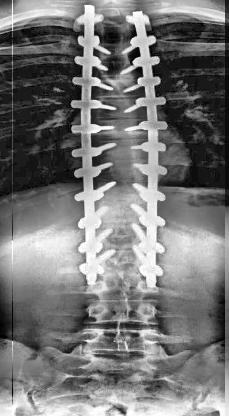Vertebrae: (85, 269, 161, 301), (87, 324, 158, 356), (86, 294, 156, 326), (94, 246, 157, 276), (95, 183, 153, 215), (97, 218, 155, 248), (97, 158, 155, 186), (96, 118, 155, 142), (97, 139, 151, 161), (98, 76, 144, 98), (97, 98, 147, 118), (94, 21, 134, 43), (98, 61, 140, 79), (96, 42, 134, 60)
